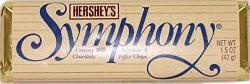grozi_76: (0, 0, 250, 84)
